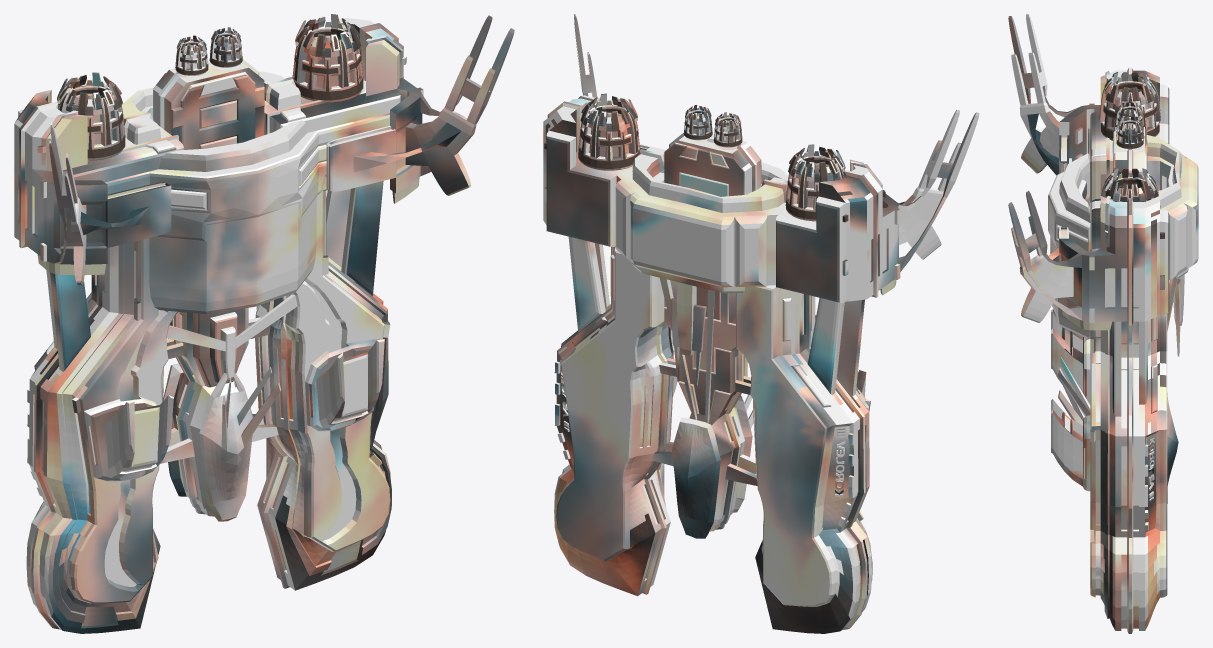
The model's file is korolev_star004(testmotor)(59441).fbx.
The picture shows the model from 3 angles, left to right: view 1: azimuth 30°, elevation 25°; view 2: azimuth 150°, elevation 25°; view 3: azimuth 270°, elevation 25°; orthographic projection. The views are drawn at different scales.
Visible parts, largest first — view 1: Layer 0; view 2: Layer 0; view 3: Layer 0.
Boxes of the visible parts, <box> form: Layer 0: <box>14,14,514,633</box>; Layer 0: <box>543,14,979,633</box>; Layer 0: <box>1008,14,1198,633</box>.
Bounding box in the file's own units: 18.04 × 21.59 × 7.71.
